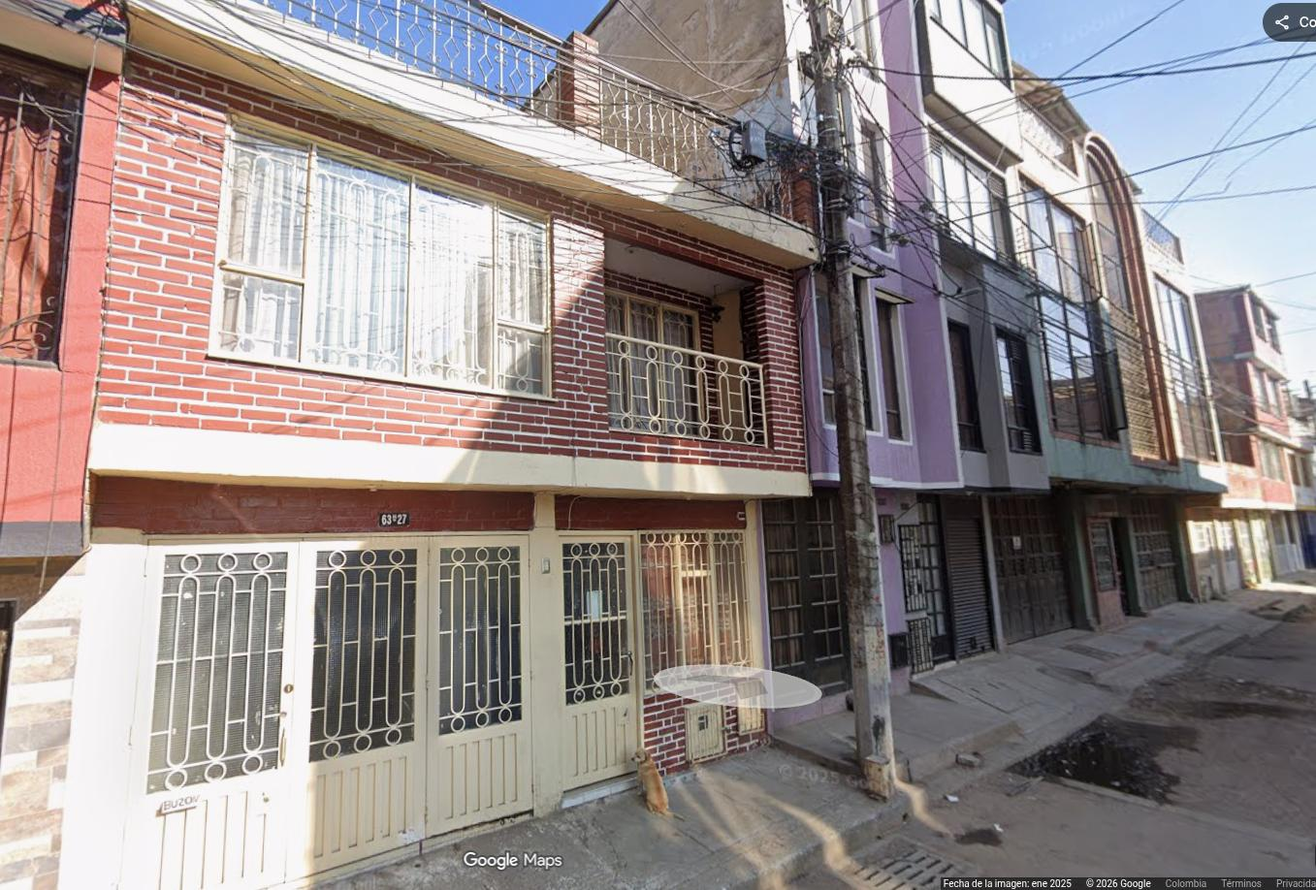casa: (0, 0, 818, 889), (587, 0, 1219, 691), (766, 266, 847, 689)
poste: (810, 0, 894, 798)
